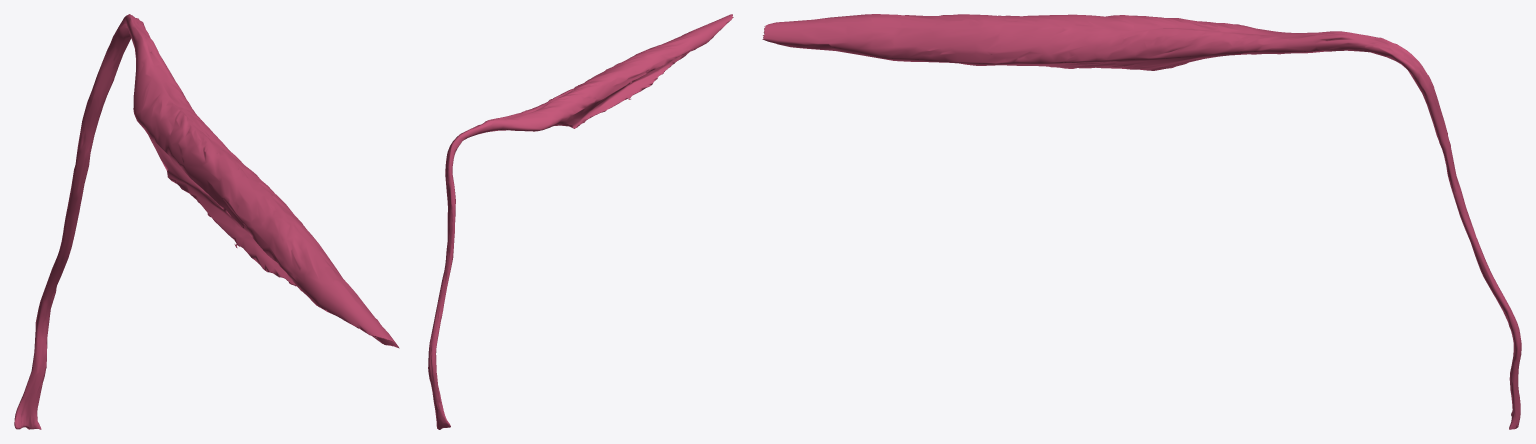
3 views of the same model, side by side, from view 1: azimuth 30°, elevation 25°; view 2: azimuth 150°, elevation 25°; view 3: azimuth 270°, elevation 25° (orthographic). The views are drawn at different scales.
Visible parts, largest first — view 1: 右侧踇长屈肌; view 2: 右侧踇长屈肌; view 3: 右侧踇长屈肌.
Part boxes in pixels (box(x1,y1,x2,y2)): 右侧踇长屈肌: box(14, 14, 399, 429); 右侧踇长屈肌: box(428, 14, 733, 429); 右侧踇长屈肌: box(762, 14, 1521, 429).
Bounding box in the file's own units: 0.0834 × 0.2722 × 0.468.
